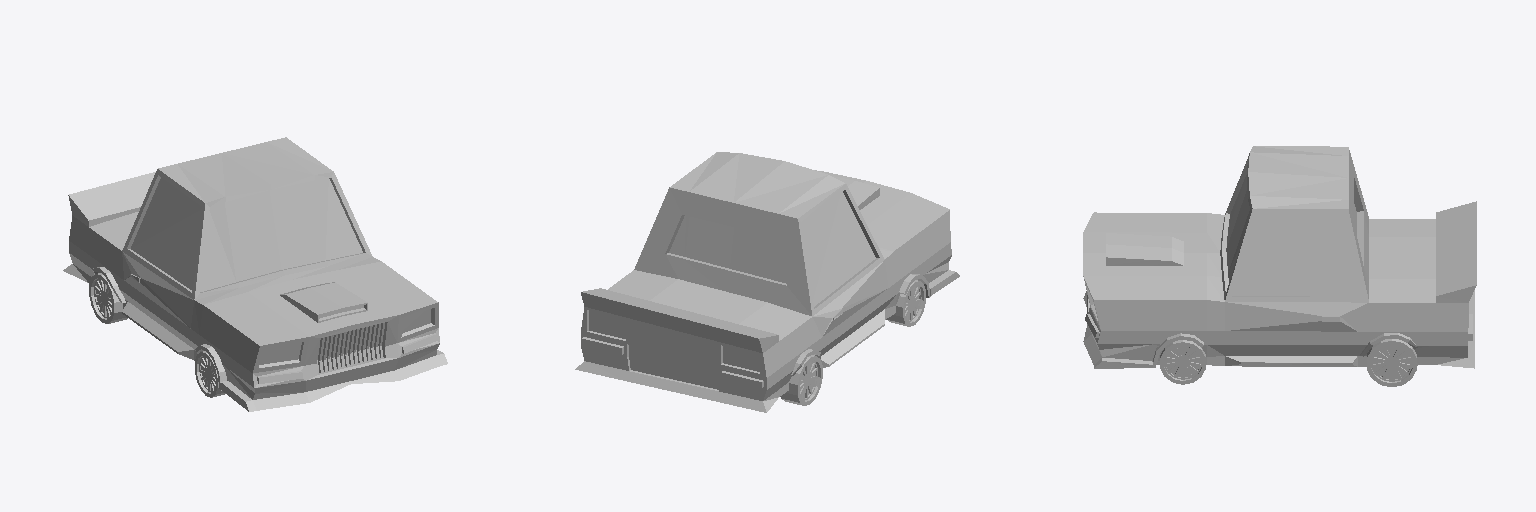
File: Car.obj
3 views of the same model, side by side, from view 1: azimuth 30°, elevation 25°; view 2: azimuth 150°, elevation 25°; view 3: azimuth 270°, elevation 25° (orthographic).
Visible parts, largest first — view 1: body_ID56, lattice.1_ID29, wheel.1_ID84, headlight_ID66, wheel1.1_ID93; view 2: body_ID56, backlight_ID75, wheel.1_ID84, wheel1.1_ID93; view 3: body_ID56, wheel.1_ID84, wheel1.1_ID93.
Part boxes in pixels (bbox=[...]): body_ID56: bbox=[63, 137, 447, 411]; lattice.1_ID29: bbox=[317, 323, 384, 372]; wheel.1_ID84: bbox=[89, 273, 127, 323]; headlight_ID66: bbox=[260, 309, 430, 364]; wheel1.1_ID93: bbox=[195, 351, 225, 397]; body_ID56: bbox=[575, 152, 959, 412]; backlight_ID75: bbox=[589, 311, 759, 371]; wheel.1_ID84: bbox=[780, 355, 822, 405]; wheel1.1_ID93: bbox=[886, 280, 925, 326]; body_ID56: bbox=[1083, 146, 1476, 368]; wheel.1_ID84: bbox=[1367, 339, 1416, 386]; wheel1.1_ID93: bbox=[1160, 340, 1205, 384].
Bounding box in the file's own units: 1.38 × 1.11 × 2.36.